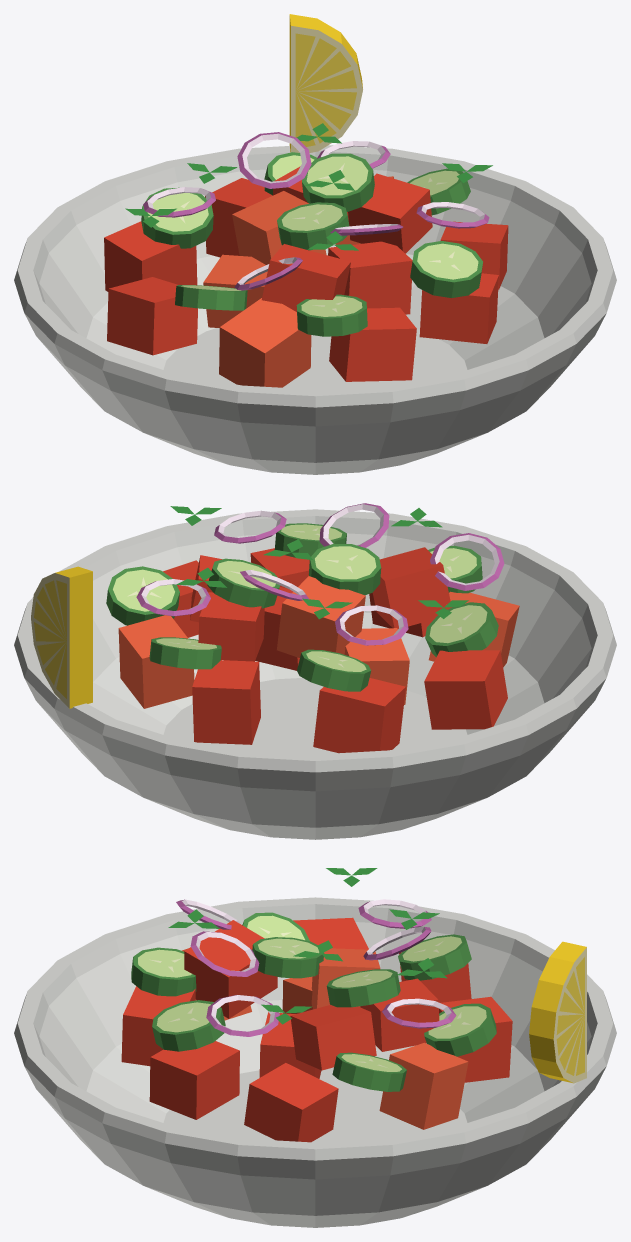
File: salad-bowl.glb
3 renders of one model, top to bottom at view 1: azimuth 30°, elevation 25°; view 2: azimuth 150°, elevation 25°; view 3: azimuth 270°, elevation 25°, orthographic.
Parts seen in each view (by area): view 1: salad-bowl; view 2: salad-bowl; view 3: salad-bowl.
Boxes of the visible parts, x1=… form: salad-bowl: x1=14, y1=14, x2=616, y2=474; salad-bowl: x1=14, y1=503, x2=616, y2=839; salad-bowl: x1=14, y1=868, x2=616, y2=1227.
Size of the model in its own units: 0.5 by 0.247 by 0.5.
